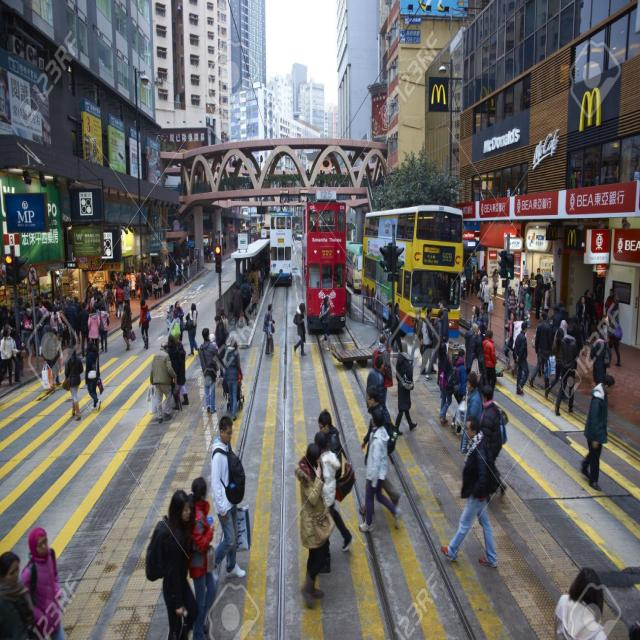body: (438, 412, 498, 568), (489, 140, 640, 200), (144, 487, 200, 639), (177, 163, 391, 197), (549, 561, 639, 640), (293, 439, 333, 611), (358, 406, 406, 536), (210, 414, 247, 582), (359, 385, 402, 516), (19, 525, 66, 640), (318, 408, 354, 551), (314, 430, 354, 554), (187, 475, 217, 640), (0, 290, 70, 356), (578, 372, 616, 493), (202, 225, 271, 280), (362, 352, 394, 467), (125, 253, 197, 298), (479, 384, 507, 497), (0, 550, 34, 640), (270, 211, 344, 250), (390, 339, 419, 438), (148, 340, 178, 424), (554, 326, 578, 417), (406, 268, 460, 308), (80, 269, 125, 316), (528, 310, 554, 390), (460, 371, 484, 456), (197, 326, 218, 414), (61, 344, 84, 422), (544, 326, 568, 399), (601, 293, 624, 368), (371, 332, 394, 406), (222, 336, 241, 422), (424, 308, 446, 382), (436, 340, 454, 426), (450, 347, 467, 437), (416, 211, 462, 244), (84, 340, 105, 412), (165, 332, 182, 412), (419, 306, 438, 376), (513, 320, 530, 396), (42, 326, 61, 392), (584, 284, 604, 342), (381, 301, 403, 353), (589, 329, 608, 387), (212, 312, 228, 380), (482, 329, 498, 397), (469, 337, 489, 391), (0, 321, 16, 388), (63, 296, 80, 354), (464, 322, 482, 376), (183, 301, 200, 357), (503, 309, 518, 372), (9, 326, 25, 384), (176, 340, 190, 406), (554, 318, 568, 382), (409, 306, 423, 368), (120, 301, 137, 352), (531, 322, 546, 378), (292, 301, 307, 356), (228, 280, 244, 330), (137, 298, 152, 351), (318, 295, 335, 341), (262, 302, 276, 356), (438, 298, 451, 356), (320, 263, 350, 288), (51, 329, 64, 386), (468, 303, 489, 336), (78, 302, 90, 359), (239, 275, 252, 325), (566, 314, 583, 351), (87, 305, 101, 349), (98, 303, 110, 353), (146, 146, 161, 186), (172, 300, 185, 345), (577, 294, 588, 346), (549, 304, 562, 346), (512, 314, 527, 349), (480, 277, 492, 319), (374, 265, 388, 300), (73, 295, 83, 343), (540, 281, 552, 321), (502, 278, 512, 324), (533, 277, 543, 320), (248, 277, 259, 316), (523, 286, 533, 328), (534, 266, 544, 308), (115, 282, 126, 320), (166, 315, 182, 341), (507, 288, 518, 322), (526, 271, 535, 310), (557, 300, 570, 327), (463, 259, 472, 297), (516, 298, 530, 322), (122, 280, 132, 312), (240, 268, 248, 308), (218, 306, 228, 338), (604, 288, 615, 317), (491, 268, 500, 301), (150, 271, 160, 300), (164, 302, 174, 331), (477, 274, 487, 300), (124, 270, 132, 302), (129, 268, 137, 300), (469, 264, 477, 296), (460, 270, 468, 301), (258, 264, 265, 298), (517, 280, 525, 309), (248, 265, 258, 285), (256, 264, 261, 298), (208, 332, 218, 349), (157, 270, 163, 298), (524, 306, 532, 327), (479, 266, 488, 280), (249, 280, 252, 296), (216, 304, 220, 314), (524, 283, 528, 292)
